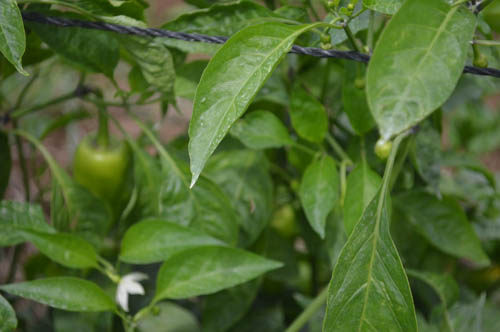ChiliPepper: (73, 145, 132, 248)
